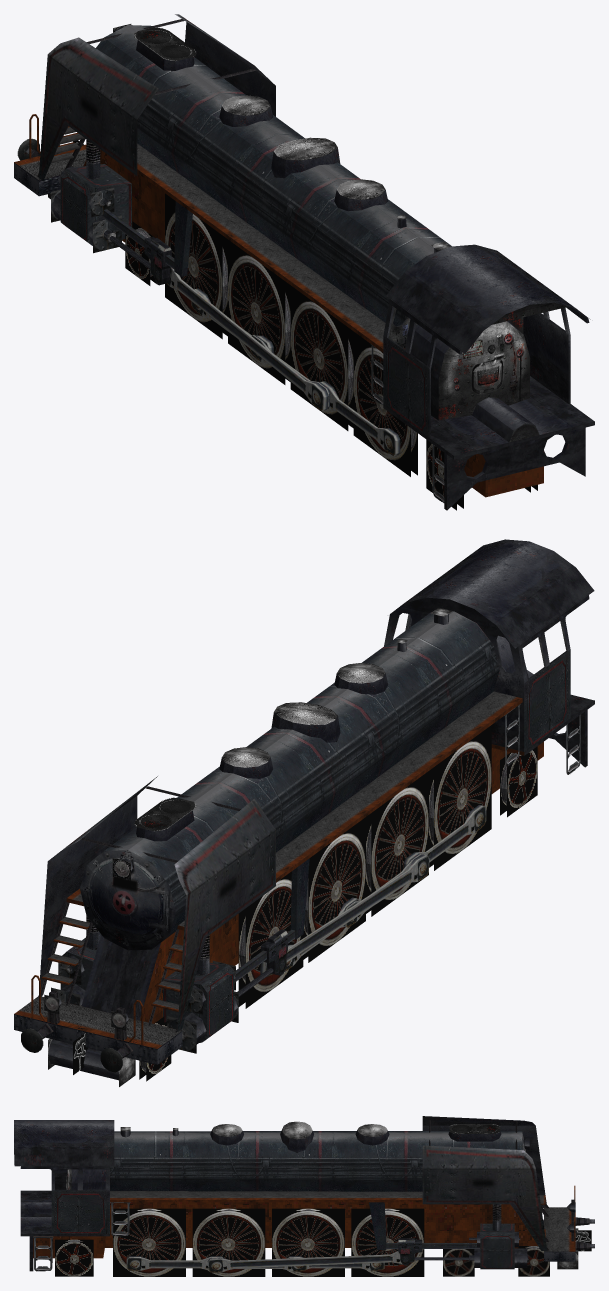
Rendered from Locomotive.fbx.
The picture shows the model from 3 angles, top to bottom: view 1: azimuth 30°, elevation 25°; view 2: azimuth 150°, elevation 25°; view 3: azimuth 270°, elevation 25°; orthographic projection. The views are drawn at different scales.
Visible parts, largest first — view 1: Cylinder15, BODY, Line05, Line06, Box07, WHL03, WHL04, Box02, Box03, WHL02, NGon02, WHL05 (+8 smaller); view 2: Cylinder15, BODY, Line06, Box02, Line05, Box07, WHL05, WHL04, WHL03, WHL02, DTHL04, WHL06 (+9 smaller); view 3: Cylinder15, Line06, Box02, BODY, WHR04, WHR05, WHR03, Line05, Box07, WHR02, DTHR04, WHR06 (+11 smaller).
Part boxes in pixels (box(x1,y1,x2,y2)): Cylinder15: box(96, 25, 451, 326); BODY: box(51, 139, 590, 442); Line05: box(383, 297, 589, 437); Line06: box(38, 14, 275, 180); Box07: box(137, 143, 385, 352); WHL03: box(228, 239, 290, 384); WHL04: box(290, 285, 353, 430); Box02: box(14, 144, 543, 497); Box03: box(383, 376, 594, 459); WHL02: box(165, 193, 227, 339); NGon02: box(444, 427, 585, 510); WHL05: box(353, 332, 417, 476); Cylinder15: box(80, 607, 499, 950); BODY: box(51, 539, 594, 1053); Line06: box(38, 776, 275, 1031); Box02: box(14, 742, 543, 1064); Line05: box(384, 588, 589, 751); Box07: box(66, 691, 522, 930); WHL05: box(429, 725, 491, 870); WHL04: box(366, 771, 428, 916); WHL03: box(303, 817, 365, 962); WHL02: box(238, 871, 303, 1008); DTHL04: box(260, 854, 429, 976); WHL06: box(500, 746, 537, 817); Cylinder15: box(110, 1121, 526, 1191); Line06: box(422, 1116, 547, 1250); Box02: box(33, 1202, 575, 1261); BODY: box(14, 1120, 528, 1269); WHR04: box(192, 1208, 265, 1276); WHR05: box(113, 1208, 185, 1276); WHR03: box(272, 1208, 344, 1276); Line05: box(20, 1166, 109, 1233); Box07: box(110, 1191, 422, 1202); WHR02: box(351, 1208, 424, 1276); DTHR04: box(207, 1251, 415, 1272); WHR06: box(55, 1239, 93, 1276).
Size of what is drawn, in the model's own units: 280 by 403 by 1523.
